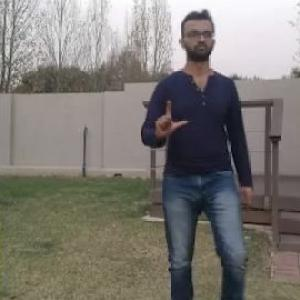land_hand: (152, 91, 198, 143)
